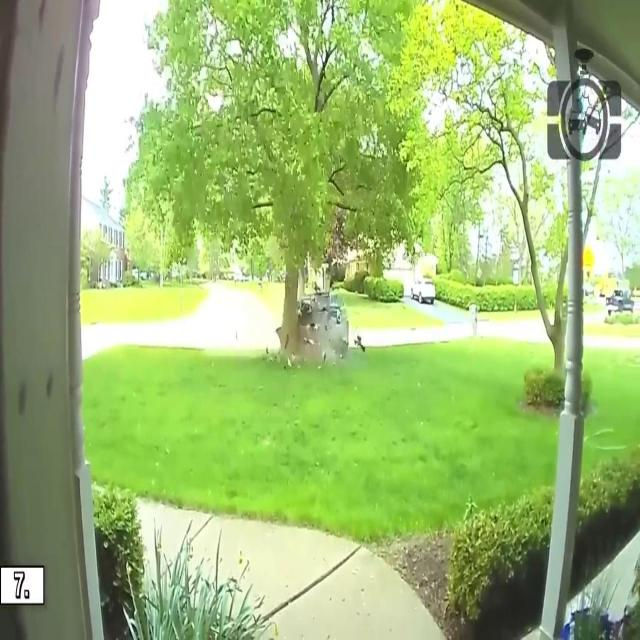accident: (272, 287, 354, 381)
